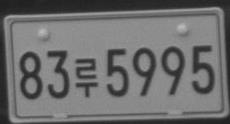3: (46, 49, 70, 99)
5: (191, 44, 216, 95), (105, 47, 129, 97)
8: (18, 50, 43, 100)
9: (131, 45, 156, 97), (160, 45, 186, 95)
루: (74, 57, 99, 98)
